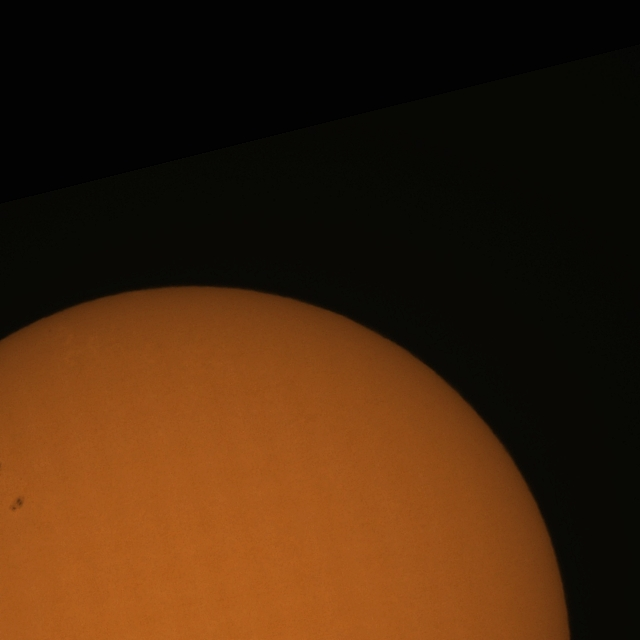sunspot: (9, 495, 25, 512)
